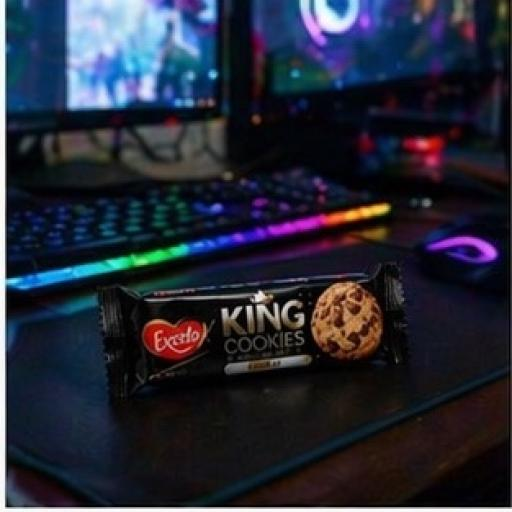king-cooking: (114, 290, 442, 394)
